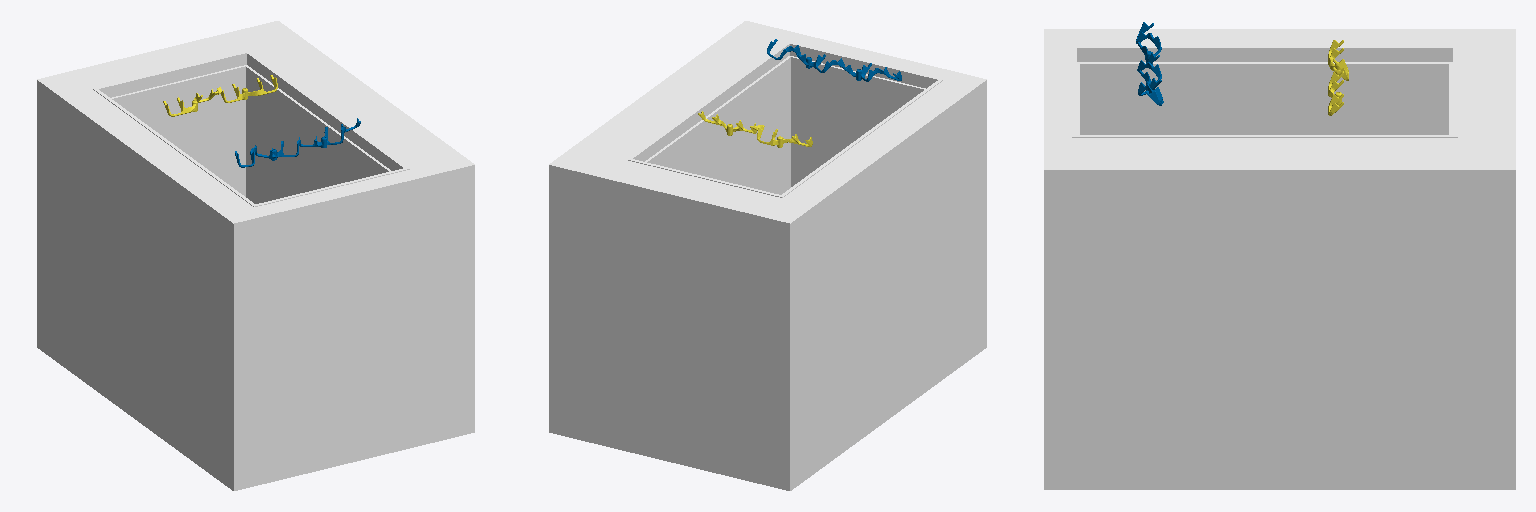
URDF robot description (alfred_workstation):
<?xml version="1.0" ?>
<robot name="alfred_workstation">

  <link name="base_link"/>

  <link name="low_boy_3pan_with_hotel_pans"/>
  <joint name="base_link_to_low_boy_3pan_with_hotel_pans" type="fixed">
    <parent link="base_link"/>
    <child link="low_boy_3pan_with_hotel_pans"/>
    <origin rpy="0 0 0" xyz="0 -0.04134 -0.0862"/>
  </joint>
  <link name="low_boy_3pan_east">
    <visual>
      <geometry>
        <mesh filename="package://dexai/meshes/low_boy_3pan.obj"/>
      </geometry>
      <material name="white">
        <color rgba="1 1 1 1"/>
      </material>
    </visual>
    <collision>
      <geometry>
        <mesh filename="package://dexai/meshes/low_boy_3pan.obj"/>
      </geometry>
      <sdf resolution="1"/>
    </collision>
  </link>
  <joint name="low_boy_3pan_with_hotel_pans_to_low_boy_3pan_east" type="fixed">
    <parent link="low_boy_3pan_with_hotel_pans"/>
    <child link="low_boy_3pan_east"/>
    <origin rpy="0 0 0" xyz="0.4974 0 0"/>
  </joint>

  <!-- <link name="low_boy_3pan_west">
    <visual>
      <geometry>
        <mesh filename="package://dexai/meshes/low_boy_3pan.obj"/>
      </geometry>
      <material name="white">
        <color rgba="1 1 1 1"/>
      </material>
    </visual>
    <collision>
      <geometry>
        <mesh filename="package://dexai/meshes/low_boy_3pan.obj"/>
      </geometry>
      <sdf resolution="128"/>
    </collision>
  </link>
  <joint name="low_boy_3pan_with_hotel_pans_to_low_boy_3pan_west" type="fixed">
    <parent link="low_boy_3pan_with_hotel_pans"/>
    <child link="low_boy_3pan_west"/>
    <origin rpy="0 0 3.141592653589793" xyz="-0.4974 0 0"/>
  </joint> -->

  <link name="vine_3rd_pans">
    <visual>
      <geometry>
        <mesh filename="package://dexai/meshes/vine_3rd_pans.obj"/>
      </geometry>
    </visual>
    <collision>
      <geometry>
        <mesh filename="package://dexai/meshes/vine_3rd_pans.obj"/>
      </geometry>
      <!-- <sdf resolution="512"/> -->
    </collision>
  </link>

  <joint name="base_link_to_vine_3rd_pans" type="fixed">
    <parent link="base_link"/>
    <child link="vine_3rd_pans"/>
    <origin rpy="0 0 0" xyz="0.49605 0.15016 -0.0472"/>
  </joint>

  <link name="vine_6th_pans_east">
    <visual>
      <geometry>
        <mesh filename="package://dexai/meshes/vine_6th_pans.obj"/>
      </geometry>
    </visual>
    <collision>
      <geometry>
        <mesh filename="package://dexai/meshes/vine_6th_pans.obj"/>
      </geometry>
      <sdf resolution="512"/>
    </collision>
  </link>

  <joint name="base_link_to_vine_6th_pans_east" type="fixed">
    <parent link="base_link"/>
    <child link="vine_6th_pans_east"/>
    <origin rpy="0 0 0" xyz="0.49605 -0.33956 -0.0472"/>
  </joint>

  <!-- <link name="vine_6th_pans_west">
    <visual>
      <geometry>
        <mesh filename="package://dexai/meshes/vine_6th_pans.obj"/>
      </geometry>
    </visual>
    <collision>
      <geometry>
        <mesh filename="package://dexai/meshes/vine_6th_pans.obj"/>
      </geometry>
      <sdf resolution="512"/>
    </collision>
  </link>

  <joint name="base_link_to_vine_6th_pans_west" type="fixed">
    <parent link="base_link"/>
    <child link="vine_6th_pans_west"/>
    <origin rpy="0 0 0" xyz="-0.49605 0.01482 -0.0472"/>
  </joint> -->

  <!-- <link name="front_pans_center"/>
  <joint name="low_boy_3pan_with_hotel_pans_to_front_pans_center" type="fixed">
    <parent link="low_boy_3pan_with_hotel_pans"/>
    <child link="front_pans_center"/>
    <origin rpy="0 0 0" xyz="0.508763 0.024999999999999994 0"/>
  </joint>
  <link name="back_pans_center"/>
  <joint name="low_boy_3pan_with_hotel_pans_to_back_pans_center" type="fixed">
    <parent link="low_boy_3pan_with_hotel_pans"/>
    <child link="back_pans_center"/>
    <origin rpy="0 0 3.141592653589793" xyz="-0.496763 0.024999999999999994 0"/>
  </joint> -->

</robot>

--- Facts derived from the render (not from the file) ---
3 views of the same robot in one strip: view 1: azimuth 30°, elevation 25°; view 2: azimuth 150°, elevation 25°; view 3: azimuth 270°, elevation 25° (orthographic).
Model alfred_workstation with 5 links and 4 joints (4 fixed), rooted at base_link, posed all joints at 0.
Links seen in each view (by area): view 1: low_boy_3pan_east, vine_3rd_pans, vine_6th_pans_east; view 2: low_boy_3pan_east, vine_6th_pans_east, vine_3rd_pans; view 3: low_boy_3pan_east, vine_6th_pans_east, vine_3rd_pans.
Link boxes in pixels (x1,y1,x2,y2): low_boy_3pan_east: [37, 21, 474, 490]; vine_3rd_pans: [163, 75, 277, 116]; vine_6th_pans_east: [235, 118, 360, 167]; low_boy_3pan_east: [549, 21, 986, 490]; vine_6th_pans_east: [767, 39, 901, 81]; vine_3rd_pans: [698, 111, 812, 147]; low_boy_3pan_east: [1044, 29, 1515, 489]; vine_6th_pans_east: [1136, 22, 1163, 105]; vine_3rd_pans: [1328, 40, 1348, 115].
Size in the robot's own frame: 0.8636 by 1.22 by 1.02 metres.
3 mesh visuals loaded from 3 distinct referenced files (3 OBJ).
